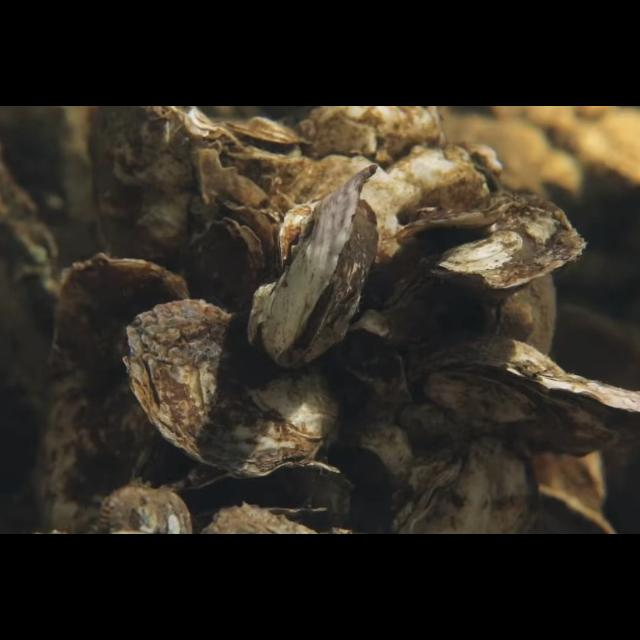Oyster-Closed: (40, 253, 190, 534), (121, 298, 342, 480), (379, 188, 586, 328), (245, 164, 379, 370), (92, 106, 224, 274), (390, 437, 542, 535), (184, 218, 264, 314)
Oyster-Open: (406, 332, 640, 460), (172, 459, 340, 517), (218, 116, 306, 166)
